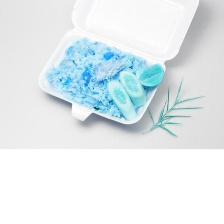foam_box: (32, 0, 202, 131)
